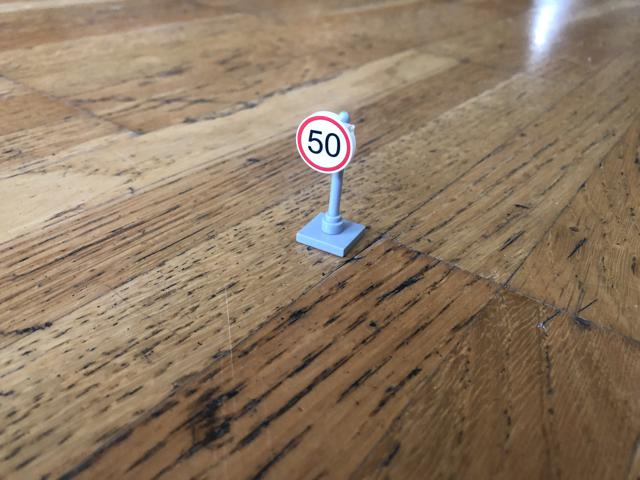tempolimit 50: (295, 111, 352, 173)
